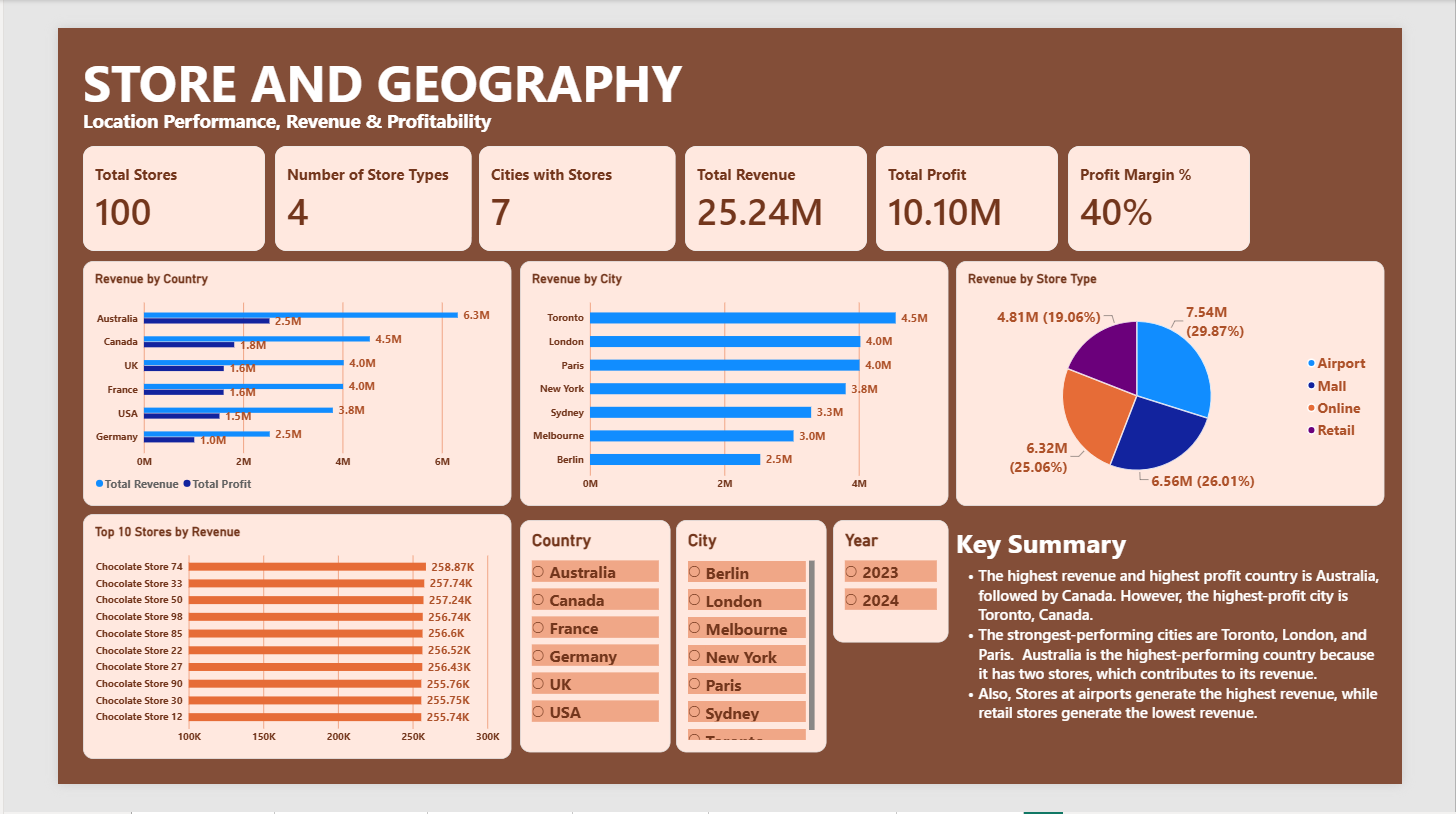

The page's visual inventory and layout, read from the dashboard file:
{"tool":"powerbi","page":{"name":"Store & Geography","canvas":[1920,1080],"ordinal":2},"visuals":[{"type":"textbox","box":[35,20,1248.3,121.7],"z":0},{"type":"textbox","box":[35,56.7,641.7,123.3],"z":1000},{"type":"cardVisual","fields":{"Data":["stores.Total Stores"]},"box":[35,168.3,260,150],"z":2000},{"type":"cardVisual","fields":{"Data":["sales.Total Revenue"]},"box":[895,168.3,260,150],"z":3000},{"type":"cardVisual","fields":{"Data":["sales.Total Profit"]},"box":[1168.3,168.3,260,150],"z":4000},{"type":"cardVisual","fields":{"Data":["sales.Profit Margin %"]},"box":[1443.3,168.3,260,150],"z":5000},{"type":"clusteredBarChart","title":"Revenue by Country","fields":{"Category":["stores.country"],"Y":["sales.Total Revenue","sales.Total Profit"]},"box":[35,333.3,611.7,350],"z":6000},{"type":"clusteredBarChart","title":"Revenue by City","fields":{"Category":["stores.city","stores.store_type","stores.store_name"],"Y":["sales.Total Revenue"]},"box":[660,333.3,611.7,350],"z":7000},{"type":"pieChart","title":"Revenue by Store Type","fields":{"Category":["stores.store_type"],"Y":["sales.Total Revenue"]},"box":[1283.3,333.3,611.7,350],"z":8000},{"type":"clusteredBarChart","title":"Top 10 Stores by Revenue","fields":{"Category":["stores.store_name"],"Y":["sales.Total Revenue"]},"box":[35,695,611.7,350],"z":9000},{"type":"listSlicer","title":"Year","fields":{"Values":["calendar.year"]},"box":[1106.7,703.3,165,175],"z":10000},{"type":"listSlicer","title":"Country","fields":{"Values":["stores.country"]},"box":[660,703.3,215,331.7],"z":11000},{"type":"listSlicer","title":"City","fields":{"Values":["stores.city"]},"box":[883.3,703.3,215,331.7],"z":12000},{"type":"textbox","box":[1283.3,766.7,611.7,278.3],"z":13000},{"type":"textbox","box":[1283.3,665,366.7,160],"z":14000},{"type":"cardVisual","fields":{"Data":["stores.Number of Store Types"]},"box":[310,168.3,281.7,150],"z":15000},{"type":"cardVisual","fields":{"Data":["stores.Cities with Stores"]},"box":[601.7,168.3,281.7,150],"z":16000}]}

Visuals, with their boxes in screenshot pixels (x1, y1, x2, y2), scaled from the page's 1920x1080 canvas onto the 1456x814 screenshot:
textbox: <box>27,15,973,107</box>
textbox: <box>27,43,513,136</box>
cardVisual - stores.Total Stores: <box>27,127,224,240</box>
cardVisual - sales.Total Revenue: <box>679,127,876,240</box>
cardVisual - sales.Total Profit: <box>886,127,1083,240</box>
cardVisual - sales.Profit Margin %: <box>1095,127,1292,240</box>
"Revenue by Country" clusteredBarChart: <box>27,251,490,515</box>
"Revenue by City" clusteredBarChart: <box>500,251,964,515</box>
"Revenue by Store Type" pieChart: <box>973,251,1437,515</box>
"Top 10 Stores by Revenue" clusteredBarChart: <box>27,524,490,788</box>
"Year" listSlicer: <box>839,530,964,662</box>
"Country" listSlicer: <box>500,530,664,780</box>
"City" listSlicer: <box>670,530,833,780</box>
textbox: <box>973,578,1437,788</box>
textbox: <box>973,501,1251,622</box>
cardVisual - stores.Number of Store Types: <box>235,127,449,240</box>
cardVisual - stores.Cities with Stores: <box>456,127,670,240</box>
